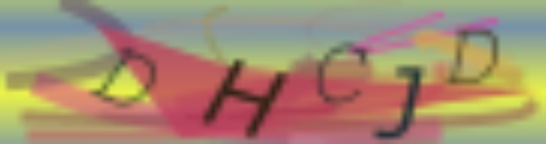C: (313, 41, 370, 106)
D: (91, 46, 158, 110), (444, 23, 501, 87)
H: (198, 56, 290, 139)
J: (373, 61, 425, 144)
